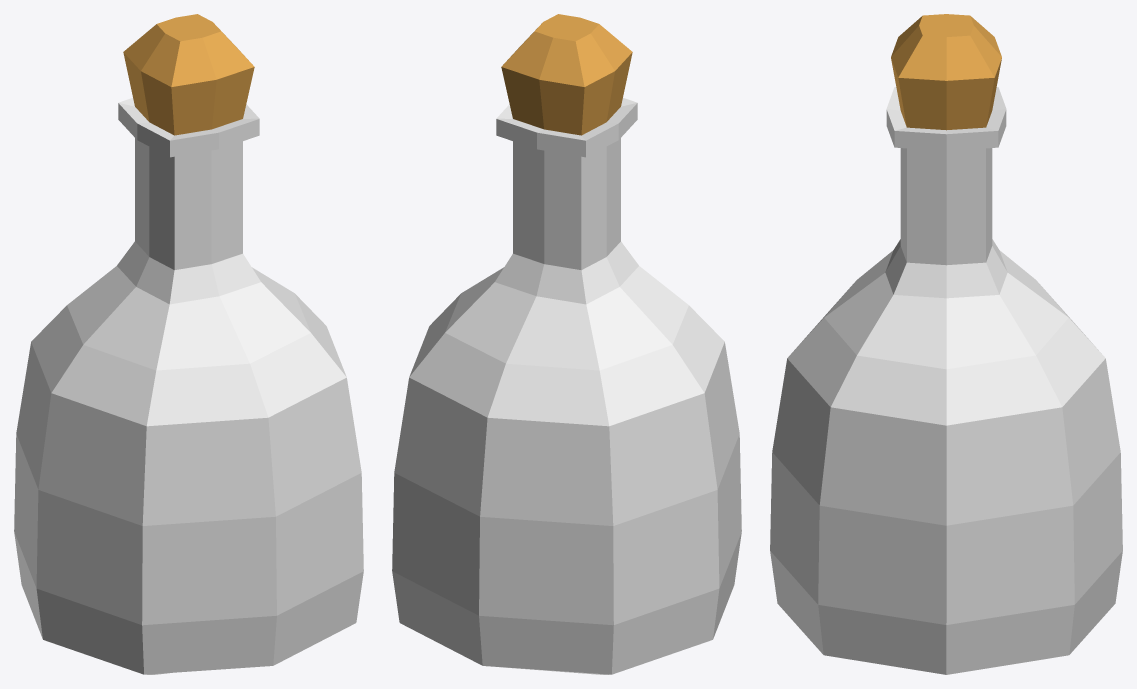
Rendered from 004_Health_Potion.fbx.
3 renders of one model, left to right at view 1: azimuth 30°, elevation 25°; view 2: azimuth 150°, elevation 25°; view 3: azimuth 270°, elevation 25°, orthographic.
Visible parts, largest first — view 1: Health Potion; view 2: Health Potion; view 3: Health Potion.
Boxes of the visible parts, x1=… form: Health Potion: x1=14, y1=14, x2=363, y2=674; Health Potion: x1=392, y1=14, x2=741, y2=674; Health Potion: x1=770, y1=14, x2=1122, y2=674.
Size of the model in its own units: 22.8 by 42.75 by 22.8.
